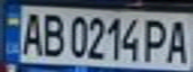0: (66, 11, 87, 60)
1: (103, 14, 124, 61)
2: (84, 12, 106, 61)
4: (121, 15, 145, 62)
A: (163, 16, 193, 64), (18, 8, 45, 56)
B: (39, 10, 66, 57)
P: (139, 16, 172, 63)
